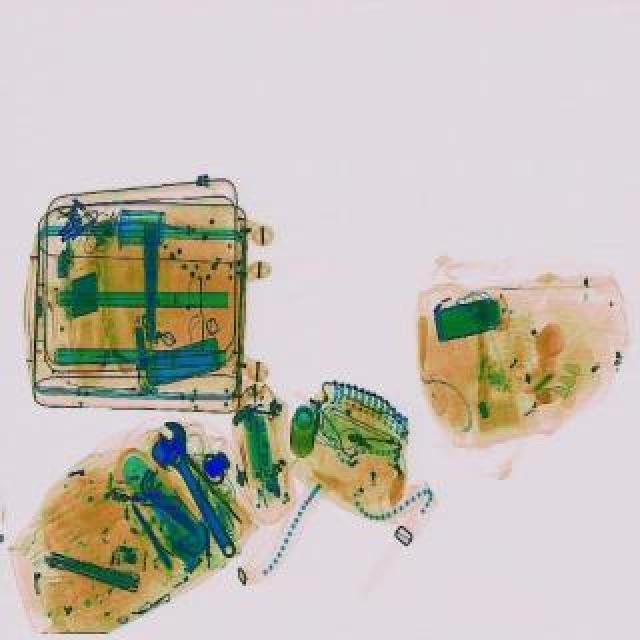scissors: (136, 414, 252, 564)
